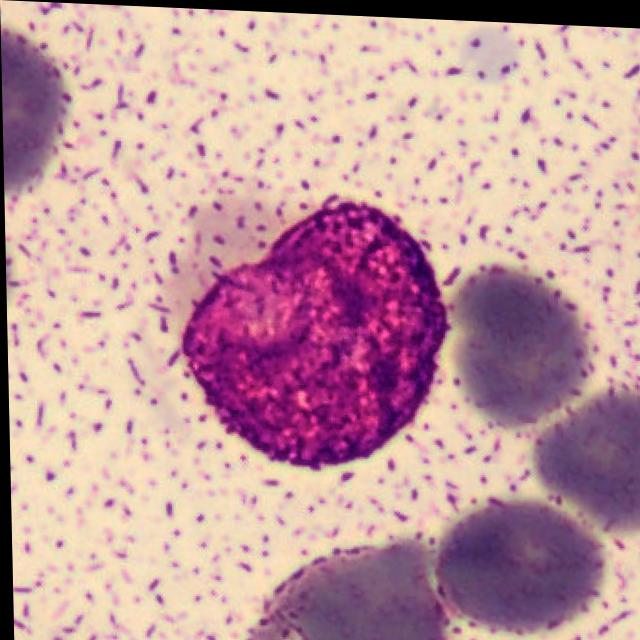Restos celulares: (178, 195, 449, 465)
